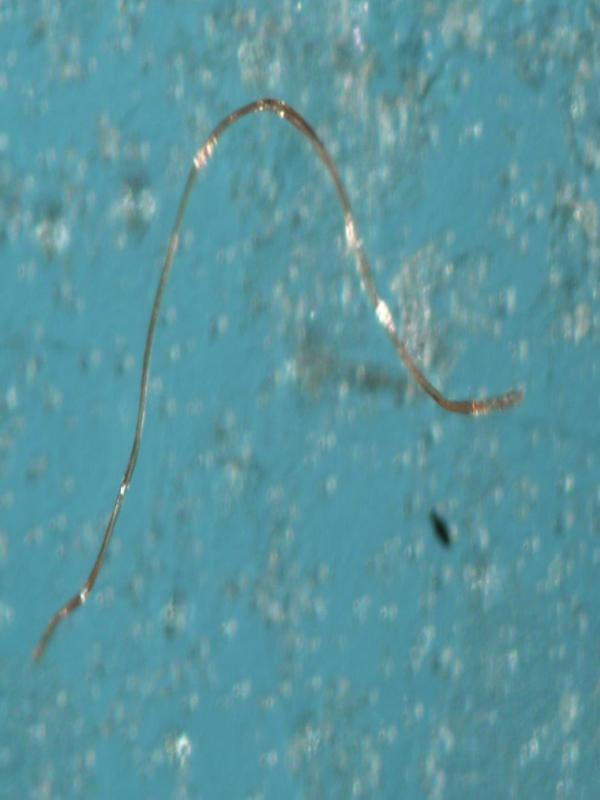microplastic: (31, 94, 525, 663)
